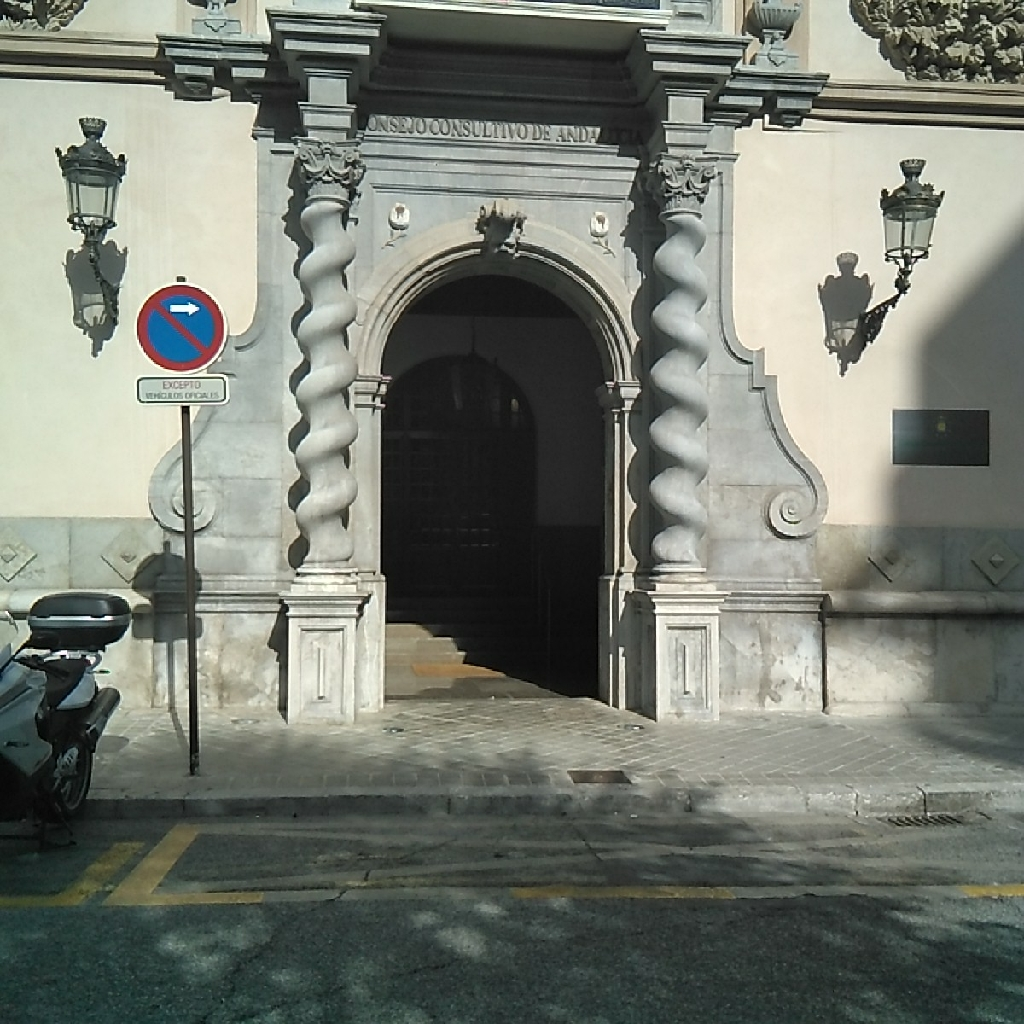arco-medio-punto: (371, 241, 631, 428)
columna-salomonica: (288, 194, 360, 574), (646, 211, 714, 572)
